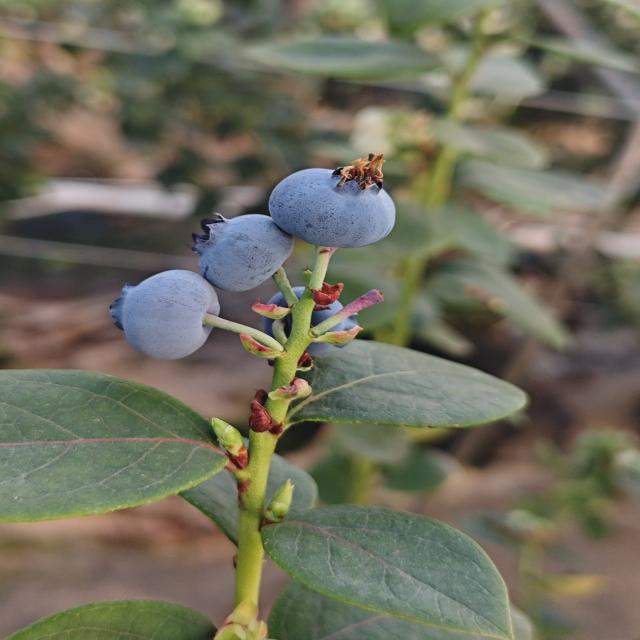ripe: (266, 165, 398, 250), (108, 268, 222, 362), (187, 212, 296, 293), (258, 287, 356, 361)
